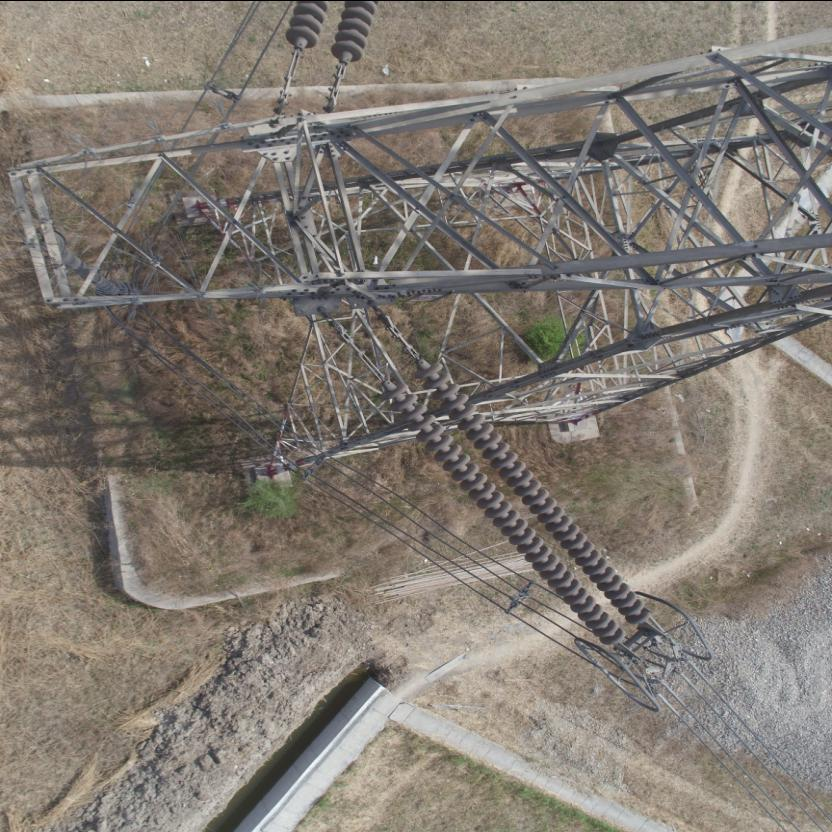insulator: (368, 338, 666, 658)
